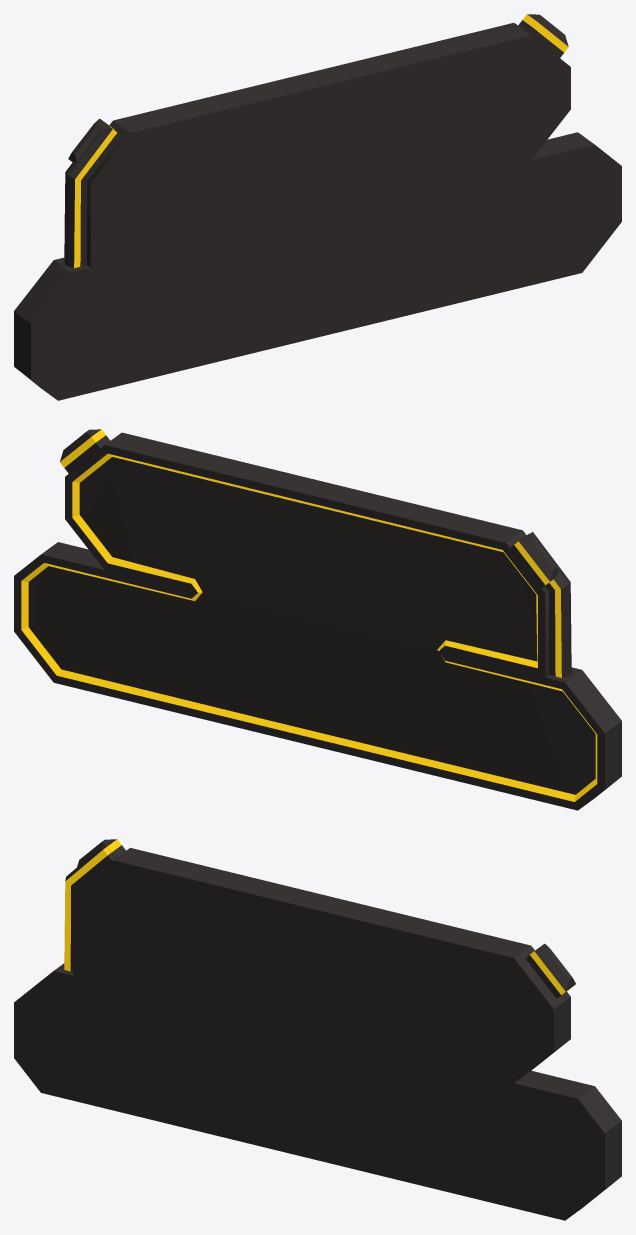
The model's file is claimpad.03.gltf.
3 views of the same model, one above another, from view 1: azimuth 30°, elevation 25°; view 2: azimuth 150°, elevation 25°; view 3: azimuth 330°, elevation 25° (orthographic).
Visible parts, largest first — view 1: claimpad.004, claimpad.005, claimpad.006; view 2: claimpad.004, claimpad.006, claimpad.005; view 3: claimpad.004, claimpad.005.
Part boxes in pixels (x1,y1,x2,y2): claimpad.004: [14, 23, 621, 400]; claimpad.005: [518, 14, 568, 57]; claimpad.006: [68, 118, 118, 162]; claimpad.004: [14, 432, 621, 810]; claimpad.006: [510, 534, 558, 588]; claimpad.005: [60, 429, 110, 473]; claimpad.004: [14, 846, 621, 1220]; claimpad.005: [525, 943, 575, 998].
Bounding box in the file's own units: 2.32 × 0.9562 × 0.1186.
2 materials, 2 textured.
